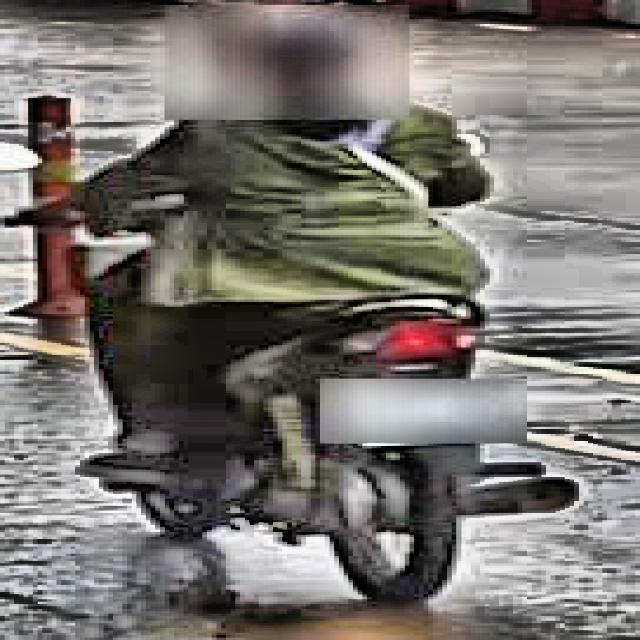motorcycle: (0, 132, 598, 614)
